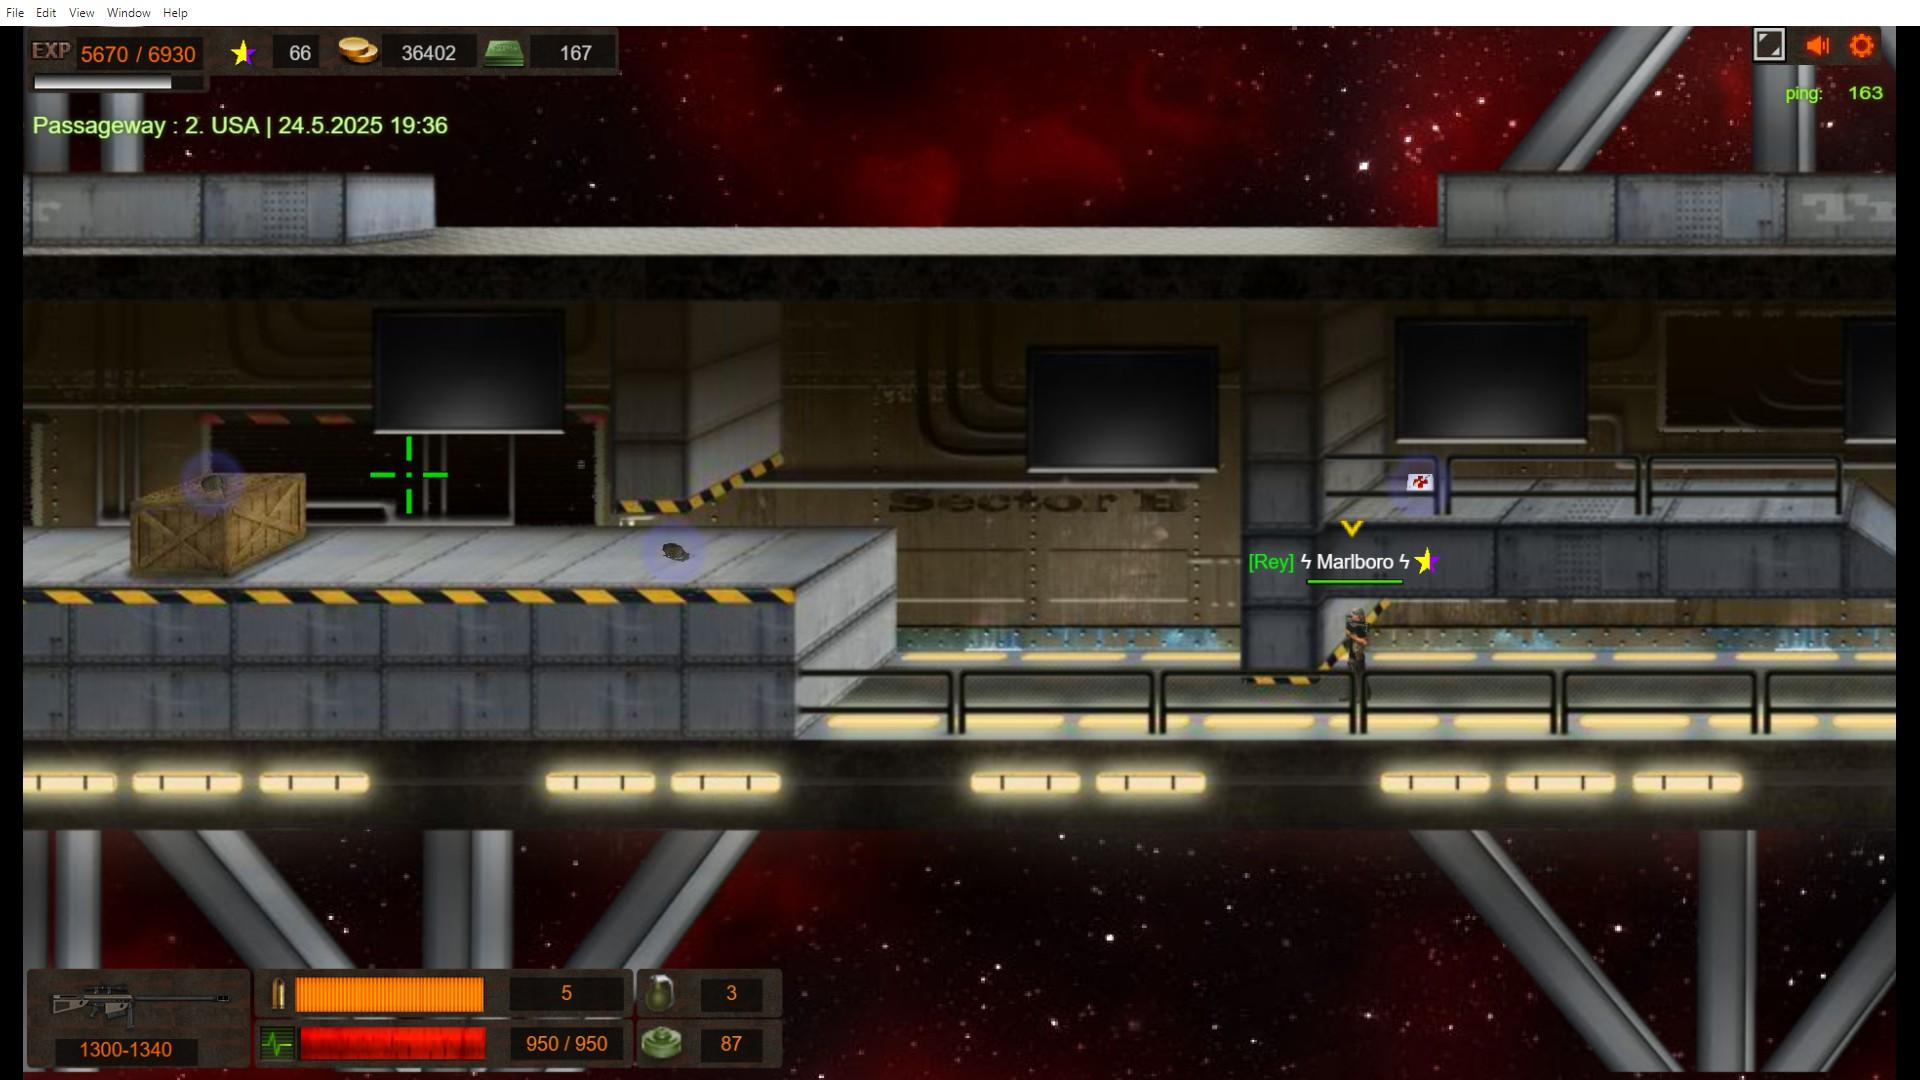enemy: (1340, 605, 1370, 704)
